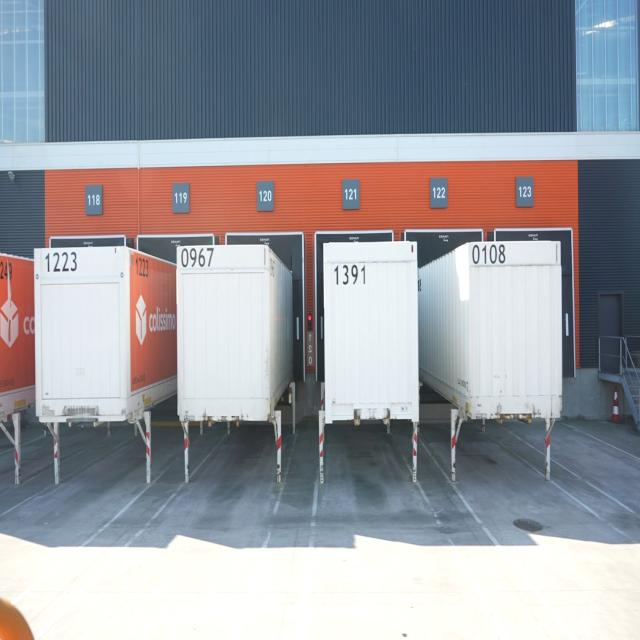Code: (471, 240, 509, 269), (44, 246, 79, 275), (180, 244, 217, 270), (332, 262, 368, 288)
